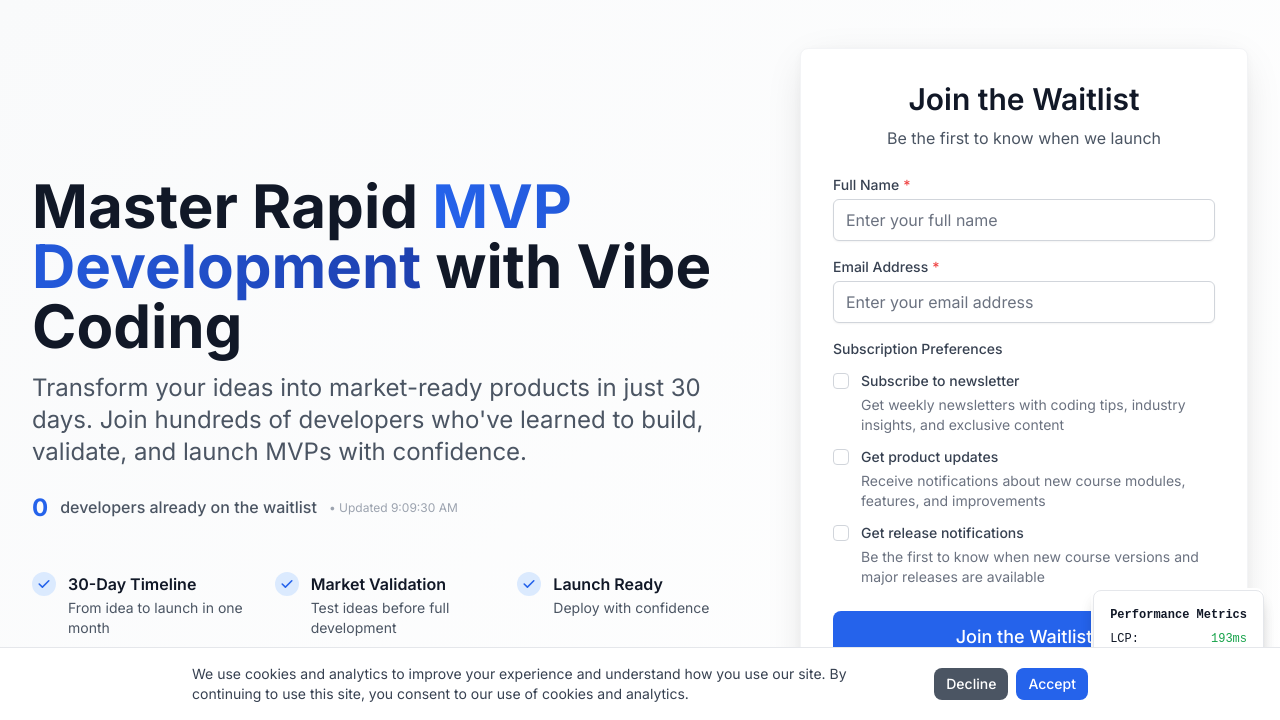
Landing Page › validates email format
Type "John Doe" into the field named "name" at (1024, 220), box [833,199,1215,241]
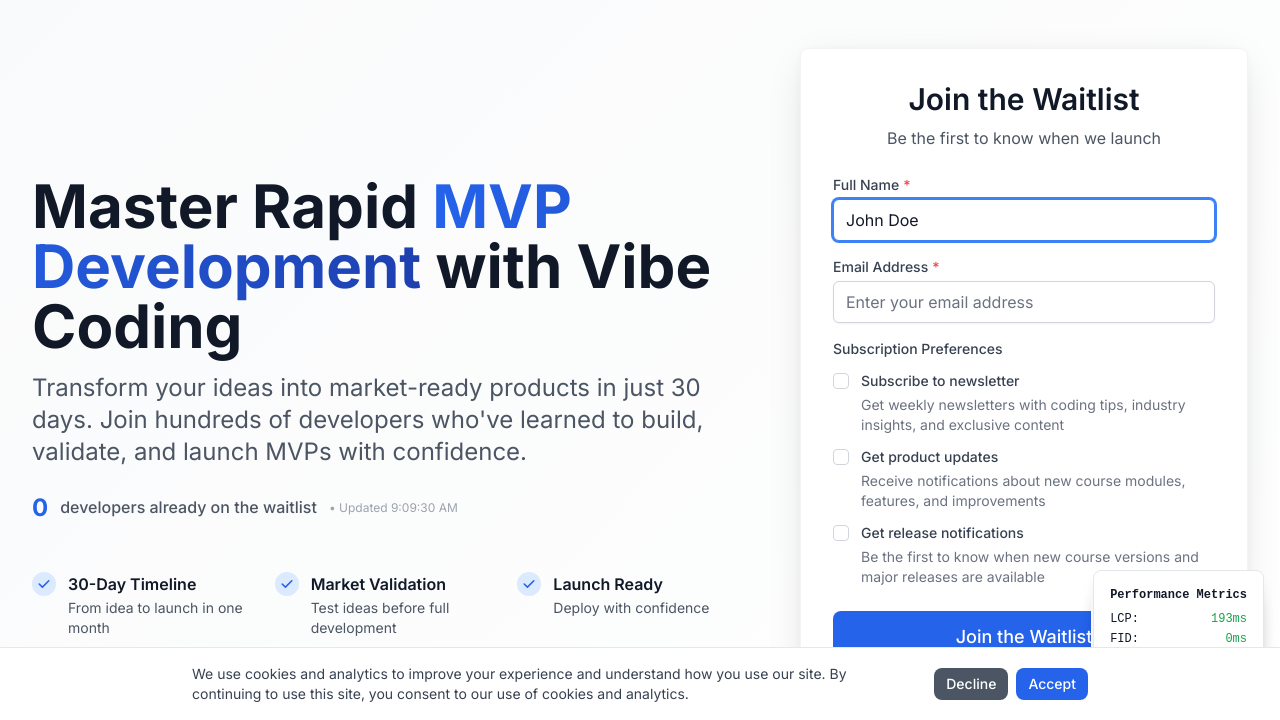
Type "invalid-email" into the field named "email" at (1024, 302), box [833,281,1215,323]
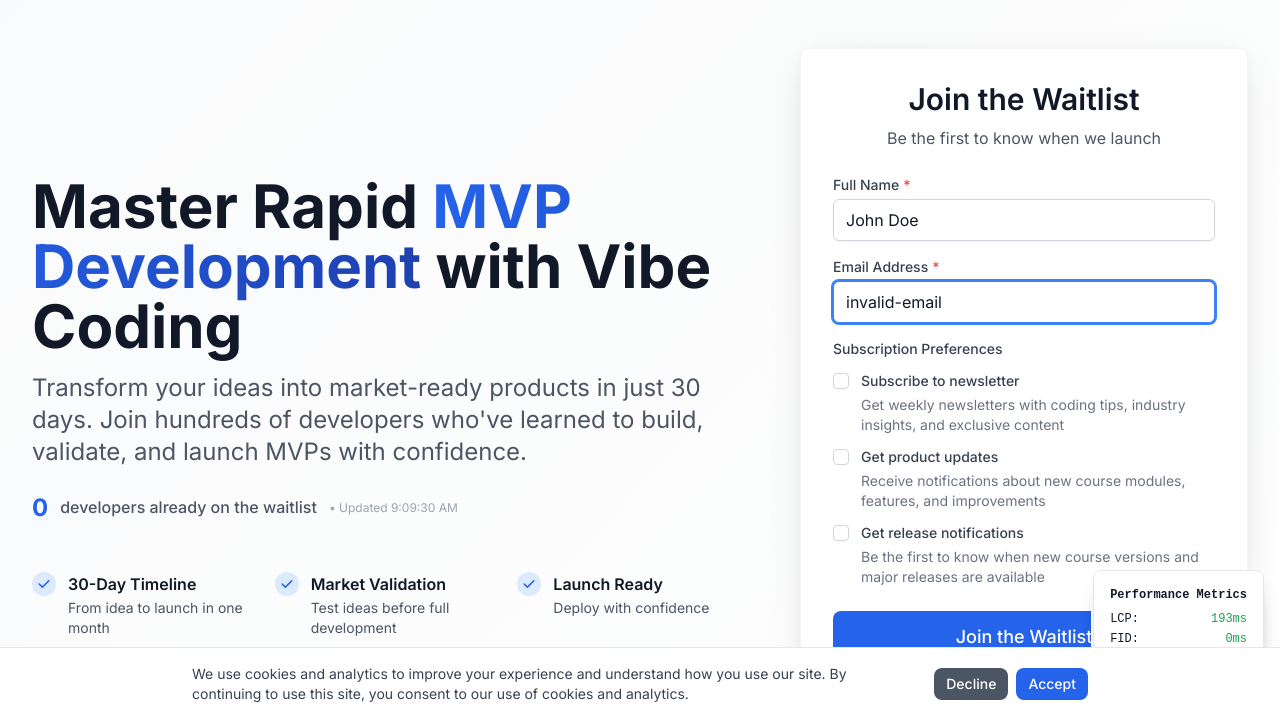
Click the submit button at (1024, 637), box [833,611,1215,663]
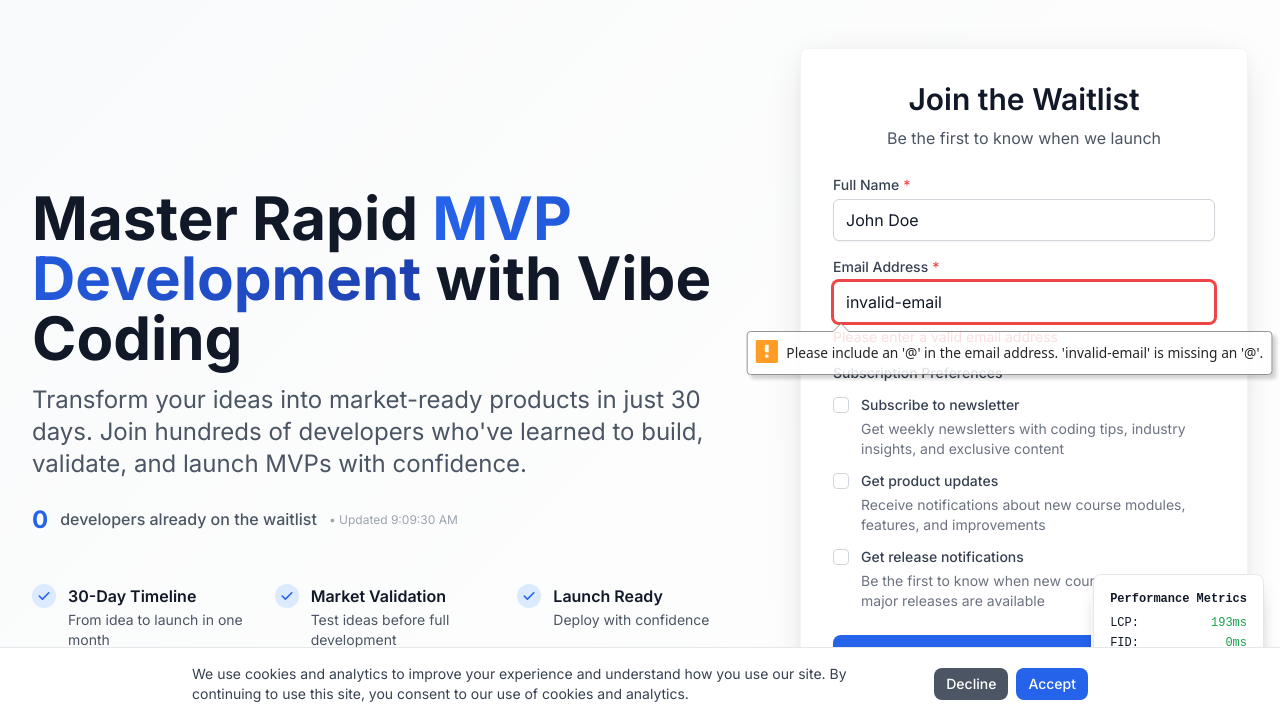
Expected: the text "Please enter a valid email address" is shown, [833,328,1058,345]
